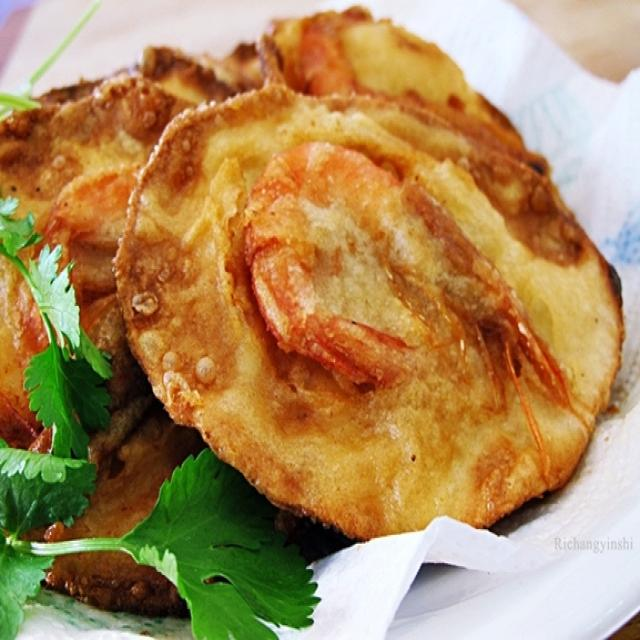炸货点心: (3, 21, 616, 602)
熟制海鲜: (3, 21, 616, 602)
